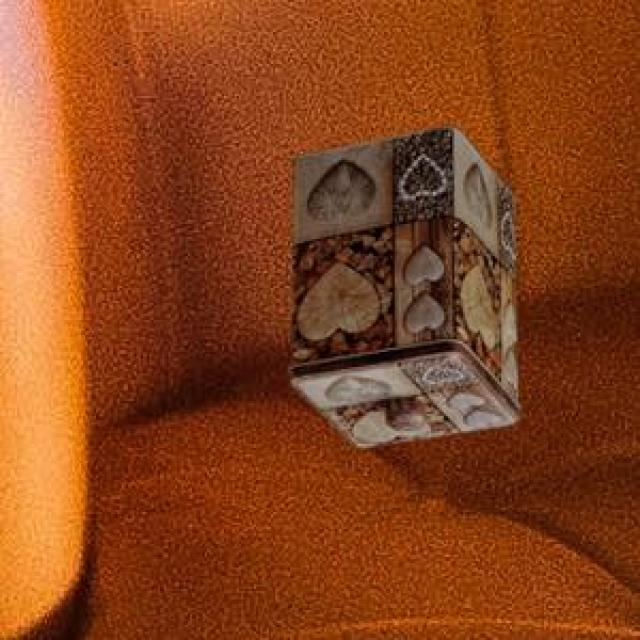logam: (289, 123, 517, 445)
